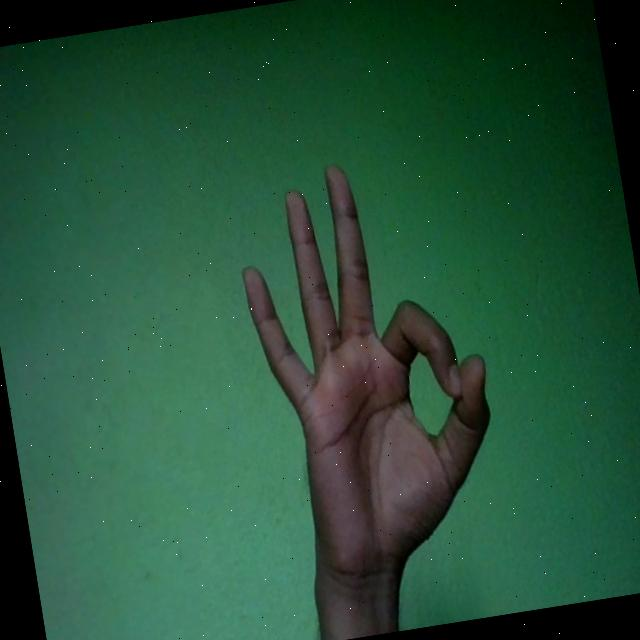Rock On: (226, 143, 517, 600)
